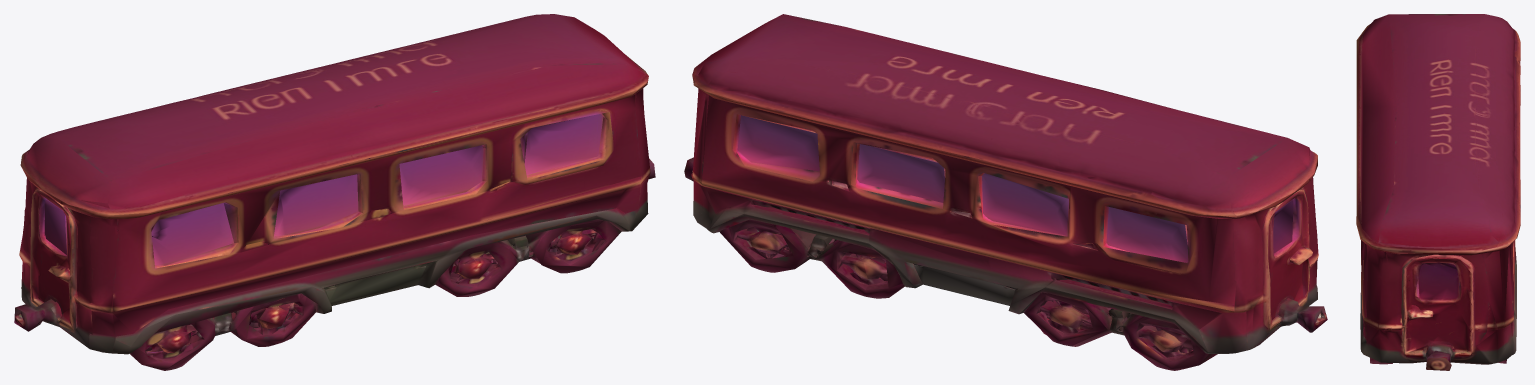
Rendered from carriage.glb.
3 views of the same model, side by side, from view 1: azimuth 30°, elevation 25°; view 2: azimuth 150°, elevation 25°; view 3: azimuth 270°, elevation 25° (orthographic). The views are drawn at different scales.
Visible parts, largest first — view 1: carriage; view 2: carriage; view 3: carriage.
Boxes of the visible parts, x1,y1,x2,y2 form: carriage: [14, 14, 655, 370]; carriage: [684, 14, 1327, 370]; carriage: [1356, 14, 1520, 370].
Size of the model in its own units: 10.8 by 3.39 by 2.92.
Materials: 1 (1 with a texture image).
